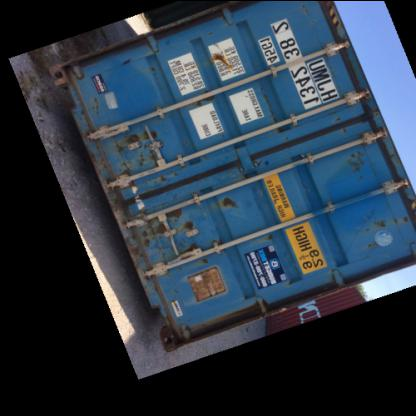Damage: (130, 204, 206, 257), (359, 210, 412, 252), (110, 124, 168, 158), (112, 168, 177, 198), (340, 144, 374, 187), (214, 192, 249, 216), (330, 107, 362, 132), (215, 43, 243, 65)
